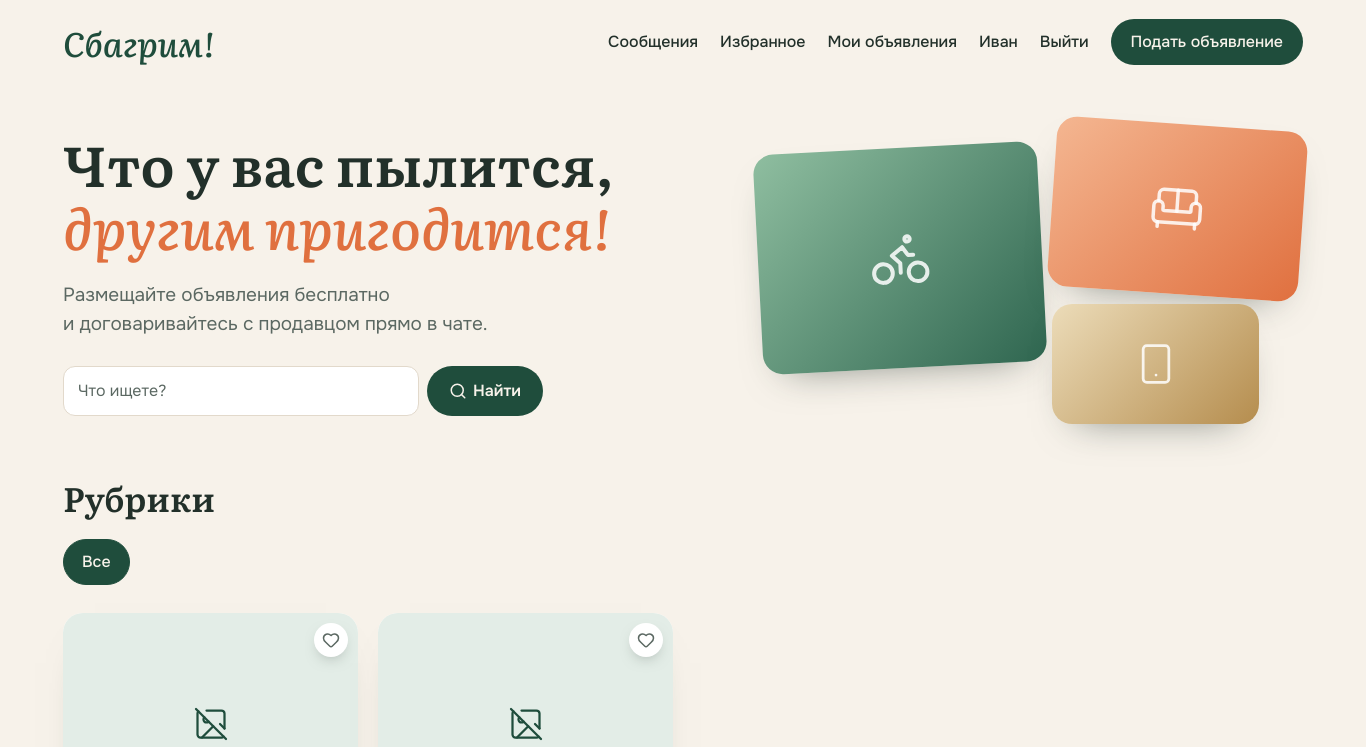
Test: избранное › показывает ошибку, если объявление уже сняли
What coordinates should you click on to do the following:
click the button named "В избранное: Велосипед"
I would click on:
 (331, 640)
Its box is [314,623,348,657].
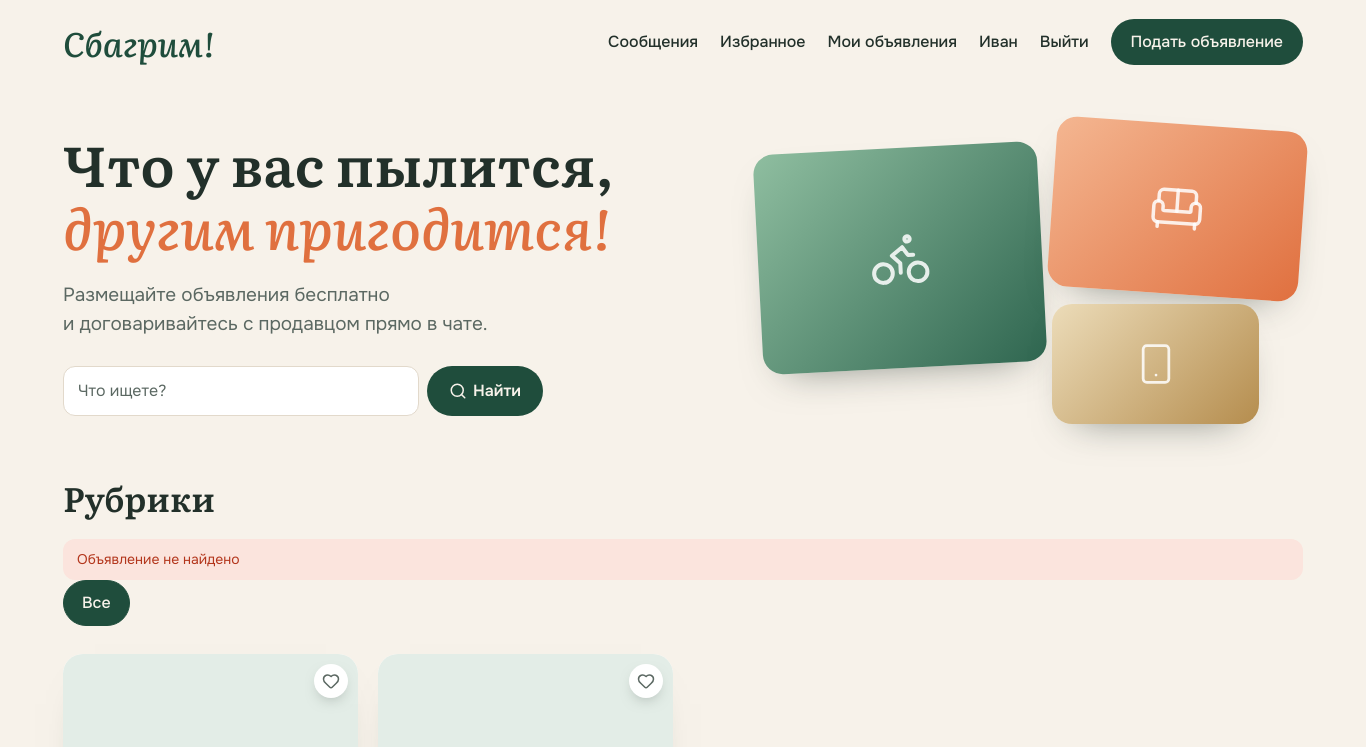
expect the message reads "Объявление не найдено": met, box [77,550,240,568]
